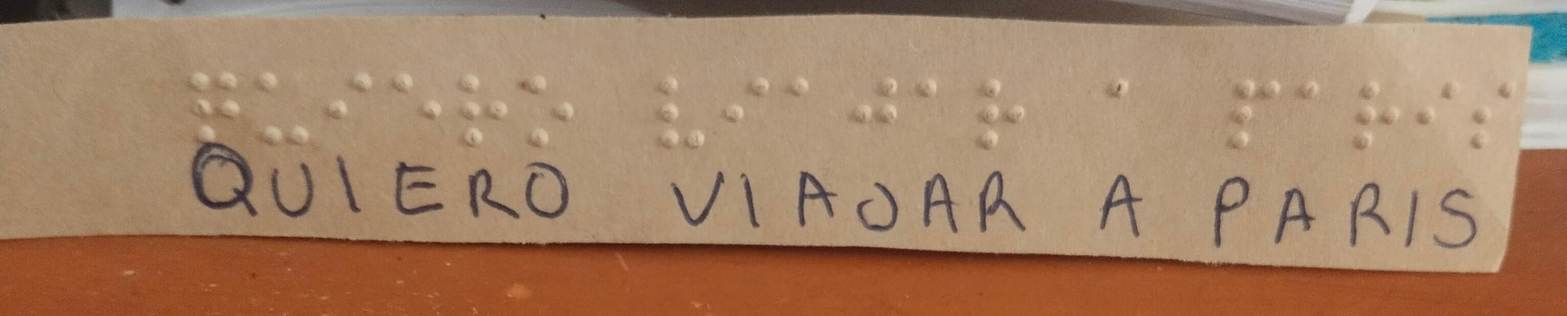a: (904, 59, 952, 120), (1093, 68, 1151, 117), (772, 68, 826, 117), (1287, 70, 1342, 113)
e: (385, 68, 447, 137)
i: (317, 63, 378, 134), (1410, 72, 1465, 141), (718, 68, 768, 142)
j: (837, 64, 903, 143)
o: (517, 69, 584, 161)
p: (1220, 68, 1288, 159)
q: (182, 74, 251, 143)
r: (969, 70, 1029, 154), (1352, 70, 1403, 161), (456, 69, 506, 154)
s: (1463, 72, 1520, 154)
u: (257, 70, 310, 147)
v: (643, 72, 714, 151)
